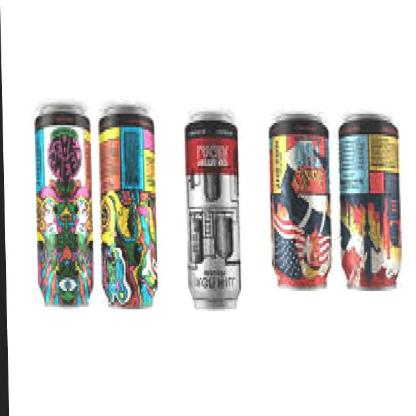Can: (96, 102, 160, 315), (31, 102, 94, 314), (263, 110, 333, 296), (180, 108, 242, 314), (336, 110, 404, 294)
